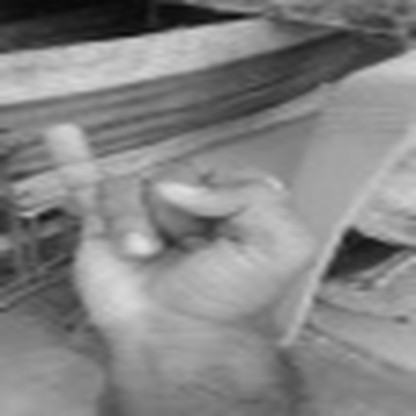i: (43, 118, 328, 339)
